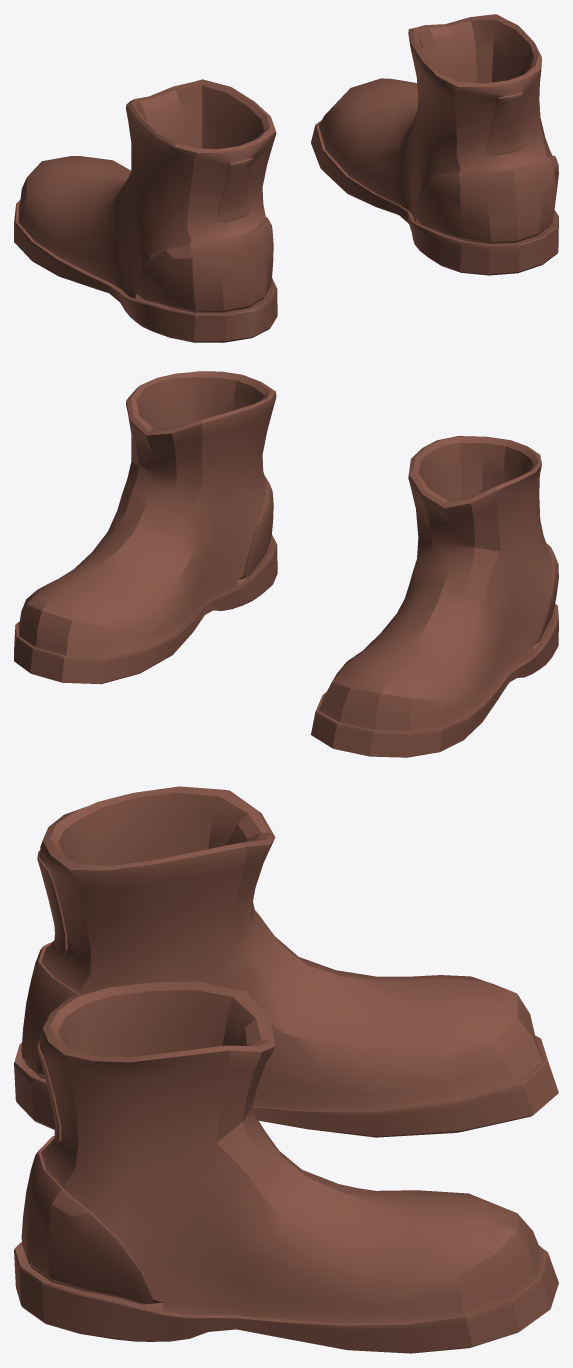
Rendered from Left_right_shoes.FBX.
The picture shows the model from 3 angles, top to bottom: view 1: azimuth 30°, elevation 25°; view 2: azimuth 150°, elevation 25°; view 3: azimuth 270°, elevation 25°; orthographic projection. The views are drawn at different scales.
Parts seen in each view (by area): view 1: Boot_left, Boot_right; view 2: Boot_right, Boot_left; view 3: Boot_right, Boot_left.
Part boxes in pixels (x1=…): Boot_left: x1=14, y1=79, x2=277, y2=342; Boot_right: x1=311, y1=14, x2=558, y2=275; Boot_right: x1=14, y1=371, x2=277, y2=684; Boot_left: x1=311, y1=436, x2=558, y2=757; Boot_right: x1=14, y1=981, x2=558, y2=1353; Boot_left: x1=14, y1=786, x2=558, y2=1137.
Bounding box in the file's own units: 7.86 × 3.46 × 5.92.
Materials: 1 (1 with a texture image).
